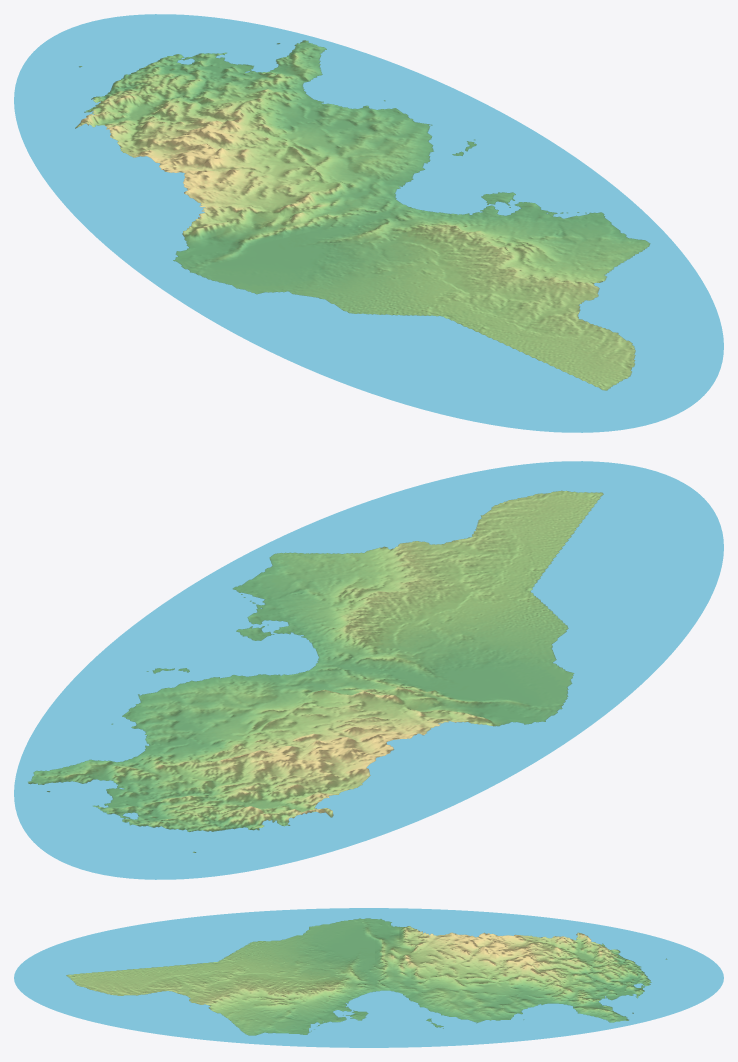
File: TUN-terrain.glb
3 renders of one model, top to bottom at view 1: azimuth 30°, elevation 25°; view 2: azimuth 150°, elevation 25°; view 3: azimuth 270°, elevation 25°, orthographic. The views are drawn at different scales.
Visible parts, largest first — view 1: Relevo com hidrografia; view 2: Relevo com hidrografia; view 3: Relevo com hidrografia.
Part boxes in pixels (left/top/right/bottom): Relevo com hidrografia: left=14, top=14, right=723, bottom=432; Relevo com hidrografia: left=14, top=461, right=723, bottom=879; Relevo com hidrografia: left=14, top=908, right=723, bottom=1047.
Size of the model in its own units: 0.885 by 0.03 by 1.9.
2 materials, 1 textured.
